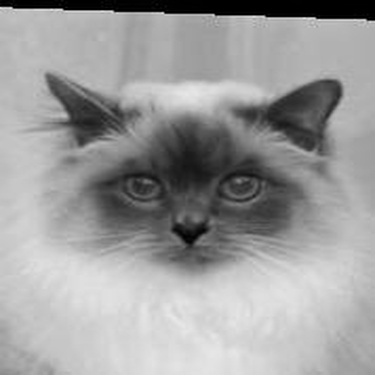cat: (17, 64, 342, 369)
